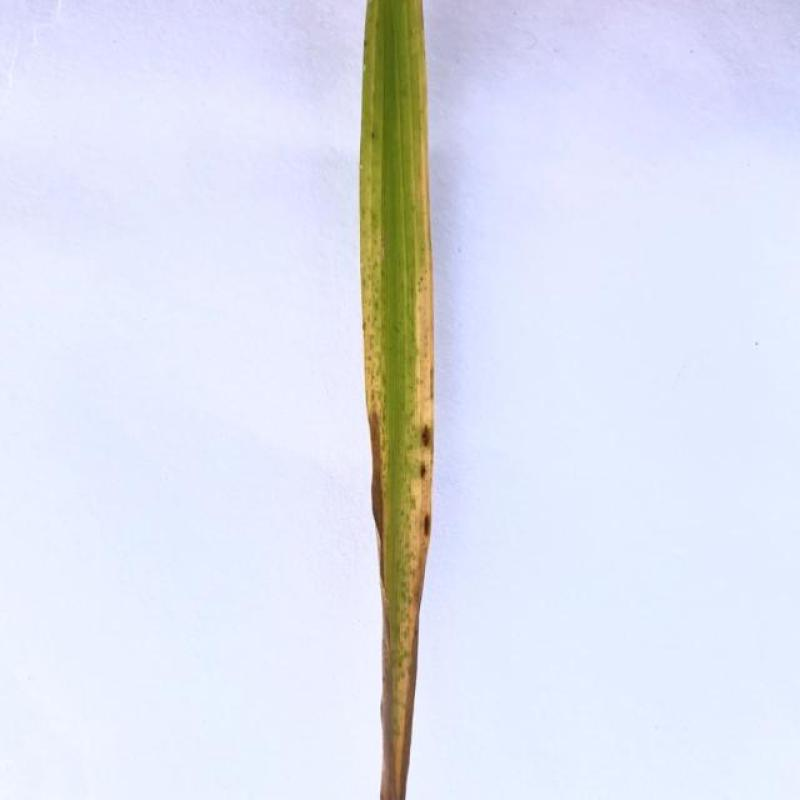Rice Tungro: (382, 131, 432, 800), (362, 126, 388, 432)
